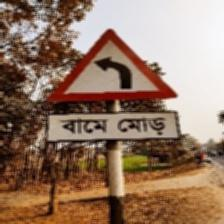Left-Turn: (44, 28, 181, 145)
